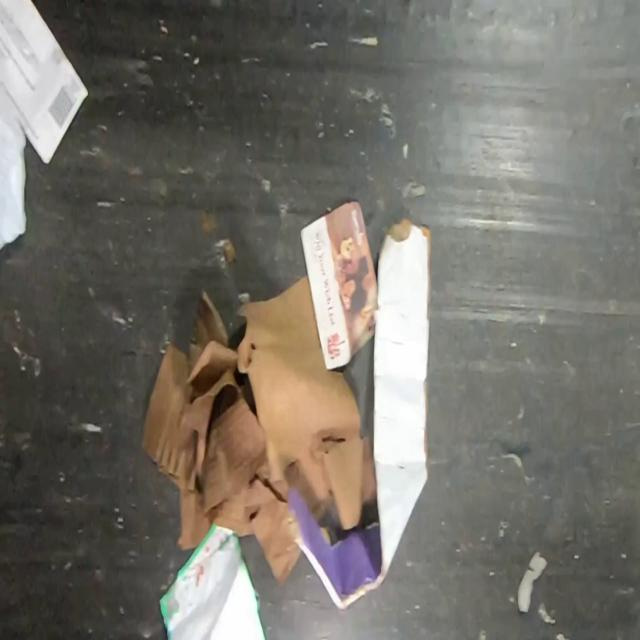cardboard: (138, 273, 376, 588), (287, 216, 434, 611)
soft_plastic: (0, 74, 27, 250)
